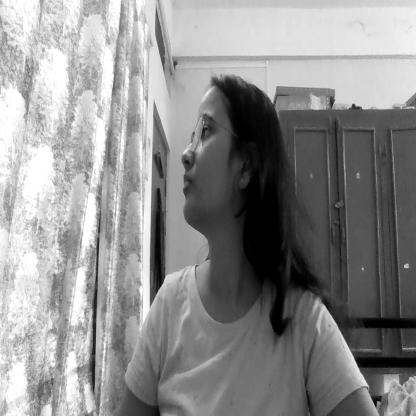Distracted: (180, 86, 270, 252)
